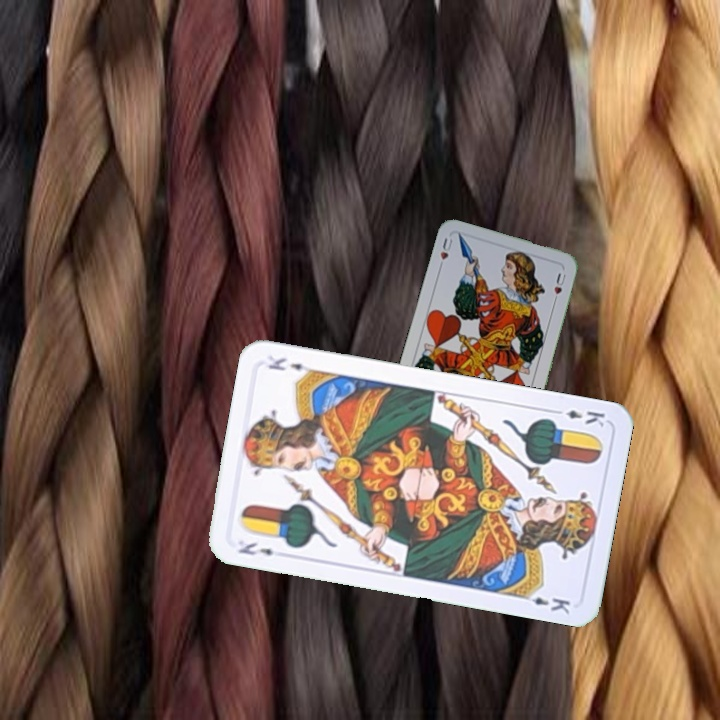EK: (549, 405, 608, 429), (234, 538, 276, 558)
HU: (435, 234, 455, 273)
